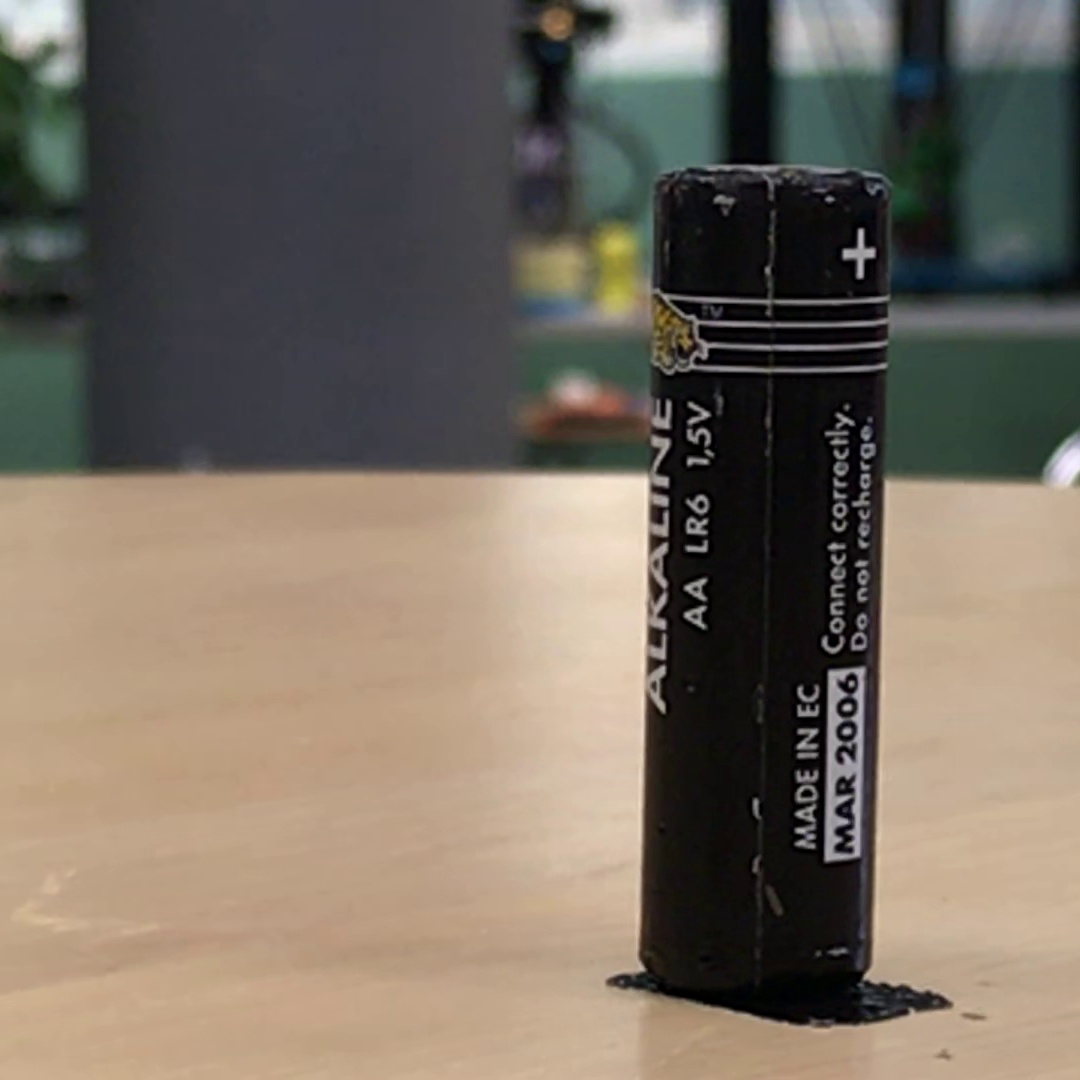keyword: (677, 484, 717, 562)
